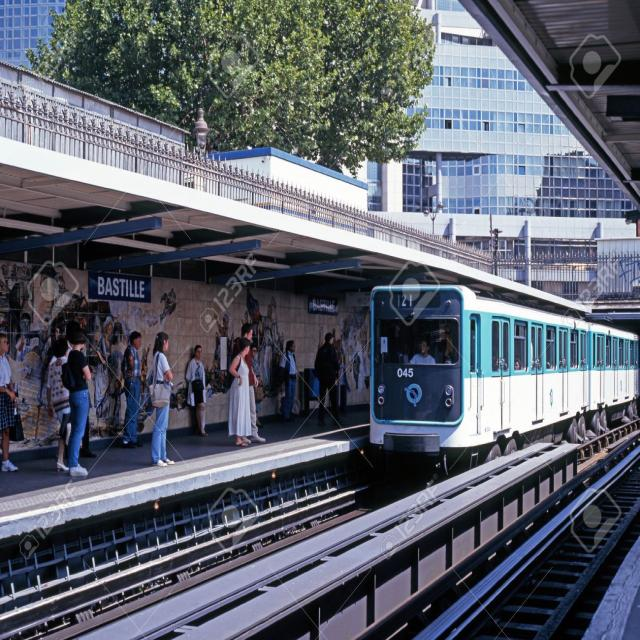body: (54, 288, 129, 436), (56, 319, 99, 461), (240, 288, 288, 415), (316, 310, 371, 400), (231, 321, 268, 445), (64, 328, 92, 477), (150, 332, 176, 468), (47, 336, 72, 472), (118, 330, 146, 450), (312, 330, 344, 428), (0, 330, 21, 473), (227, 335, 253, 449), (182, 343, 209, 437), (276, 339, 299, 425), (212, 308, 236, 386), (372, 317, 408, 363), (428, 318, 461, 365), (559, 352, 637, 368), (155, 288, 178, 328), (408, 340, 436, 365), (42, 379, 56, 429), (489, 346, 508, 374), (252, 408, 267, 436), (530, 355, 542, 370), (543, 360, 554, 369), (514, 357, 521, 370)
